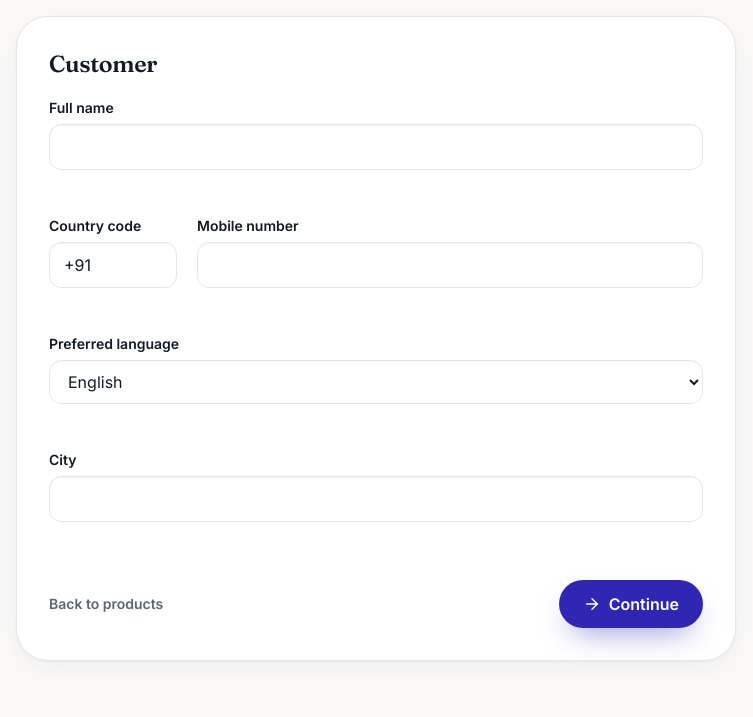
Test: RequestQuote › does not advance past the customer step while required fields are empty
(page scrolled)
Click the button "Continue": (631, 604) [559, 580, 703, 628]
(page scrolled)
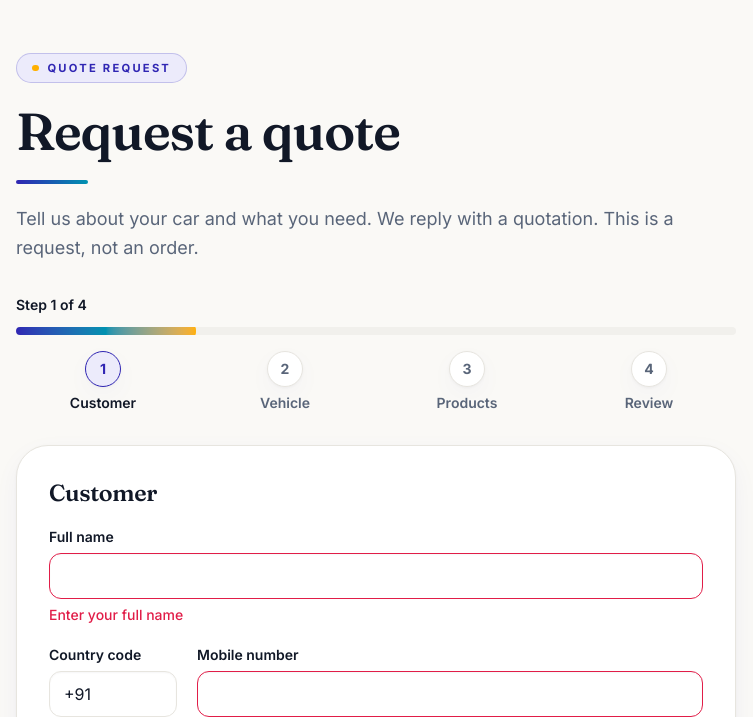
Expected: the text "Step 1 of 4" is shown, [16, 296, 87, 313]
Result: the text "Enter your full name" is shown at [49, 606, 183, 623]
